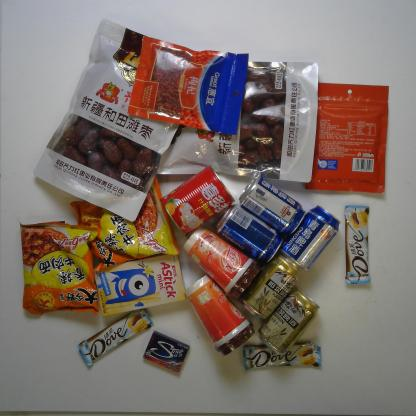Alcohol: (254, 285, 322, 359), (275, 204, 342, 275), (238, 253, 306, 322), (213, 201, 285, 265), (235, 174, 308, 237)
Canned Food: (160, 162, 236, 237)
Chocolate: (75, 305, 157, 372), (240, 339, 325, 374), (344, 202, 371, 286)
Dessert: (94, 250, 188, 320)
Dried Food: (32, 18, 203, 222), (144, 56, 320, 186)
Dried Fruit: (129, 33, 251, 138), (304, 79, 390, 195)
Gum: (140, 330, 192, 374)
Instant Drink: (181, 223, 266, 304), (180, 274, 258, 358)
Instant Noodles: (67, 173, 183, 275), (15, 219, 101, 321)
